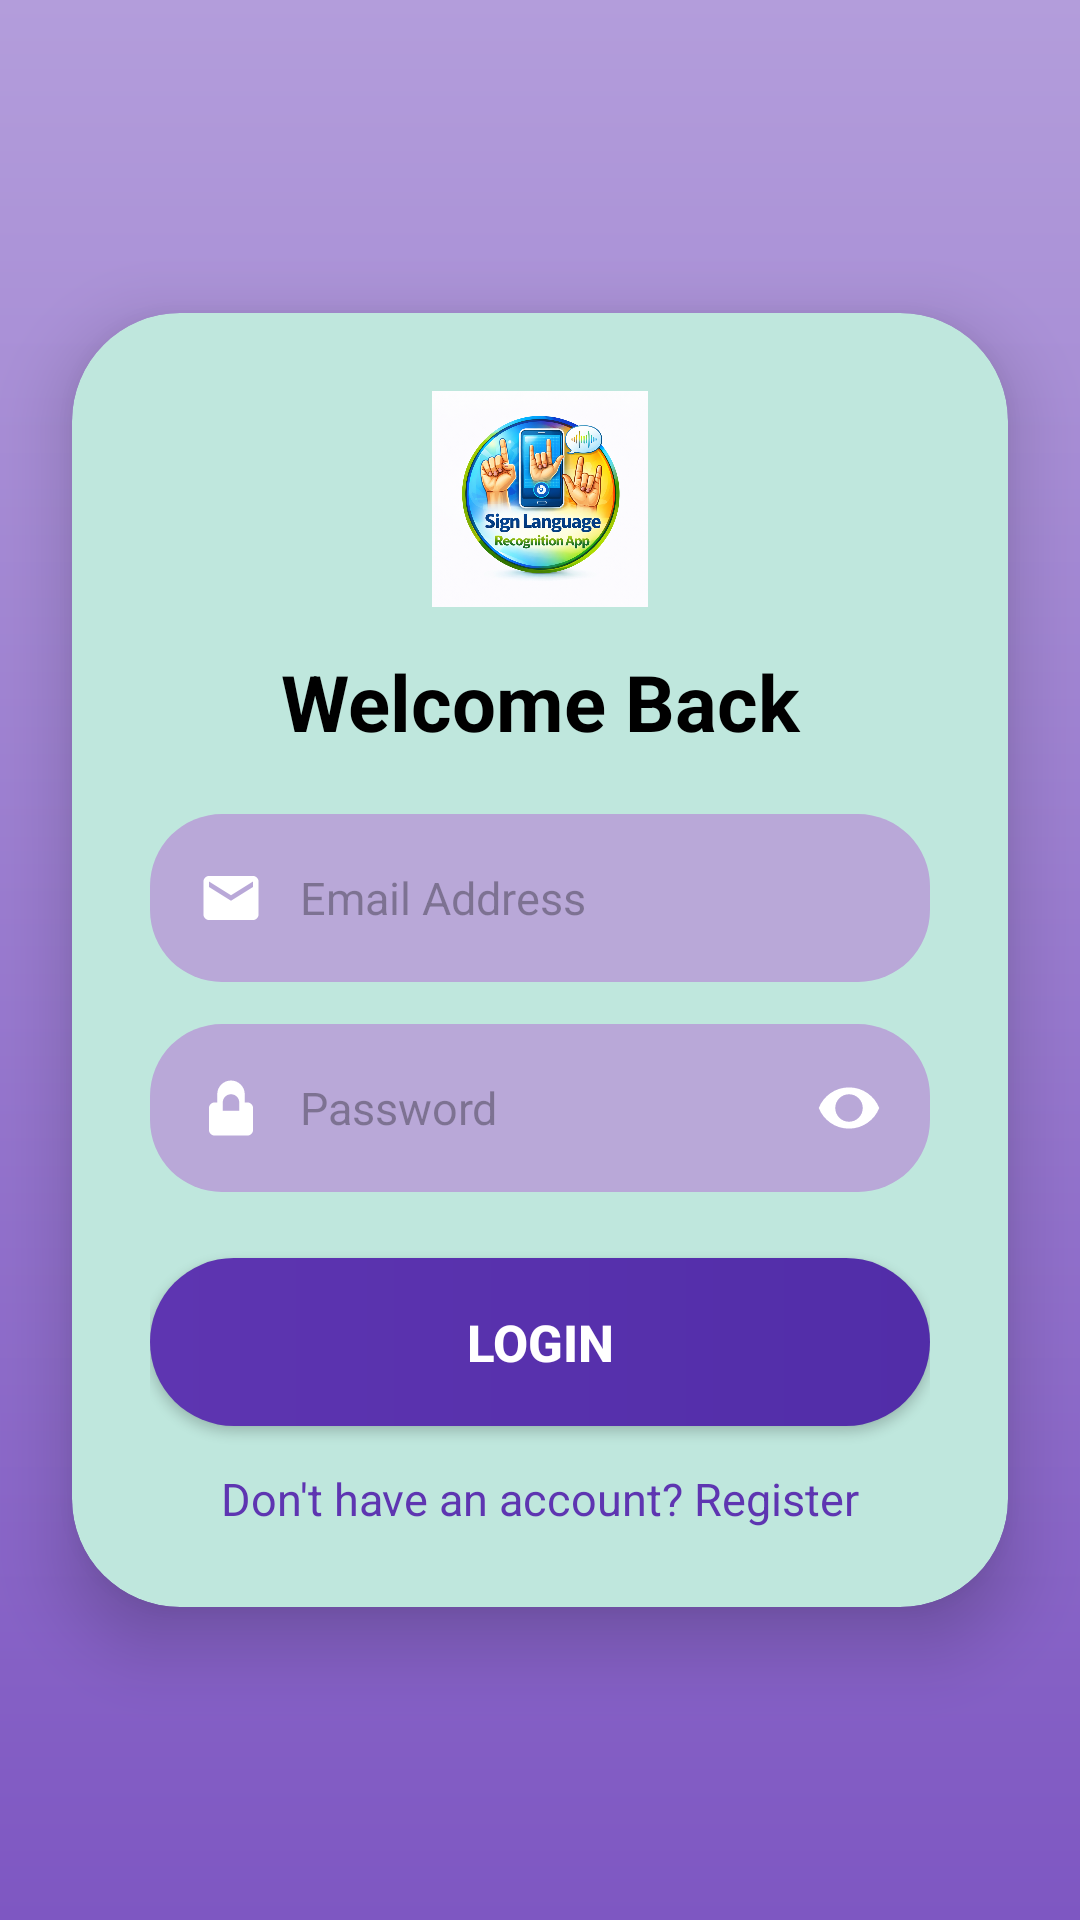

Icons on this 1080w x 1920h Android screen, each with the point to tap as [x,y]:
eye: [849,1108]
lock: [231,1108]
